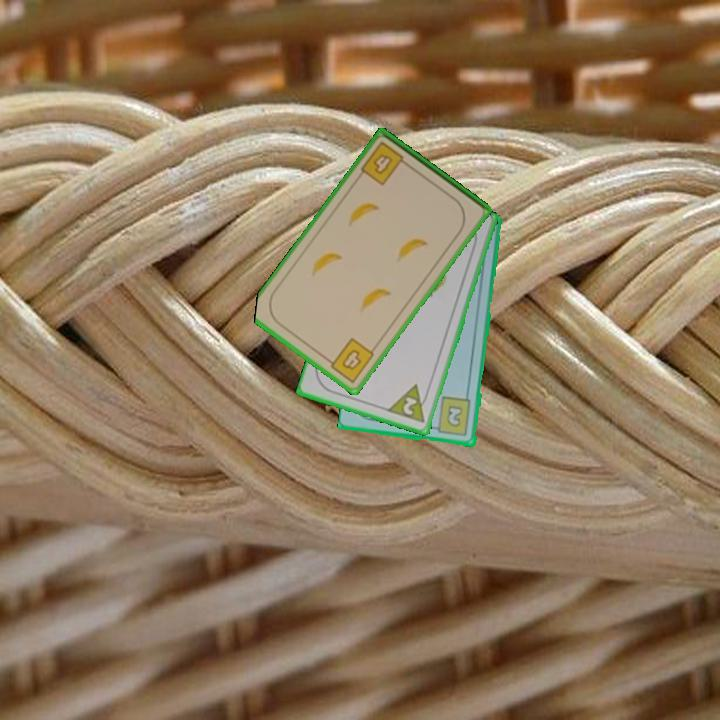2b: (428, 394, 474, 439)
2p: (385, 381, 433, 426)
4b: (322, 334, 377, 386), (357, 138, 413, 188)
